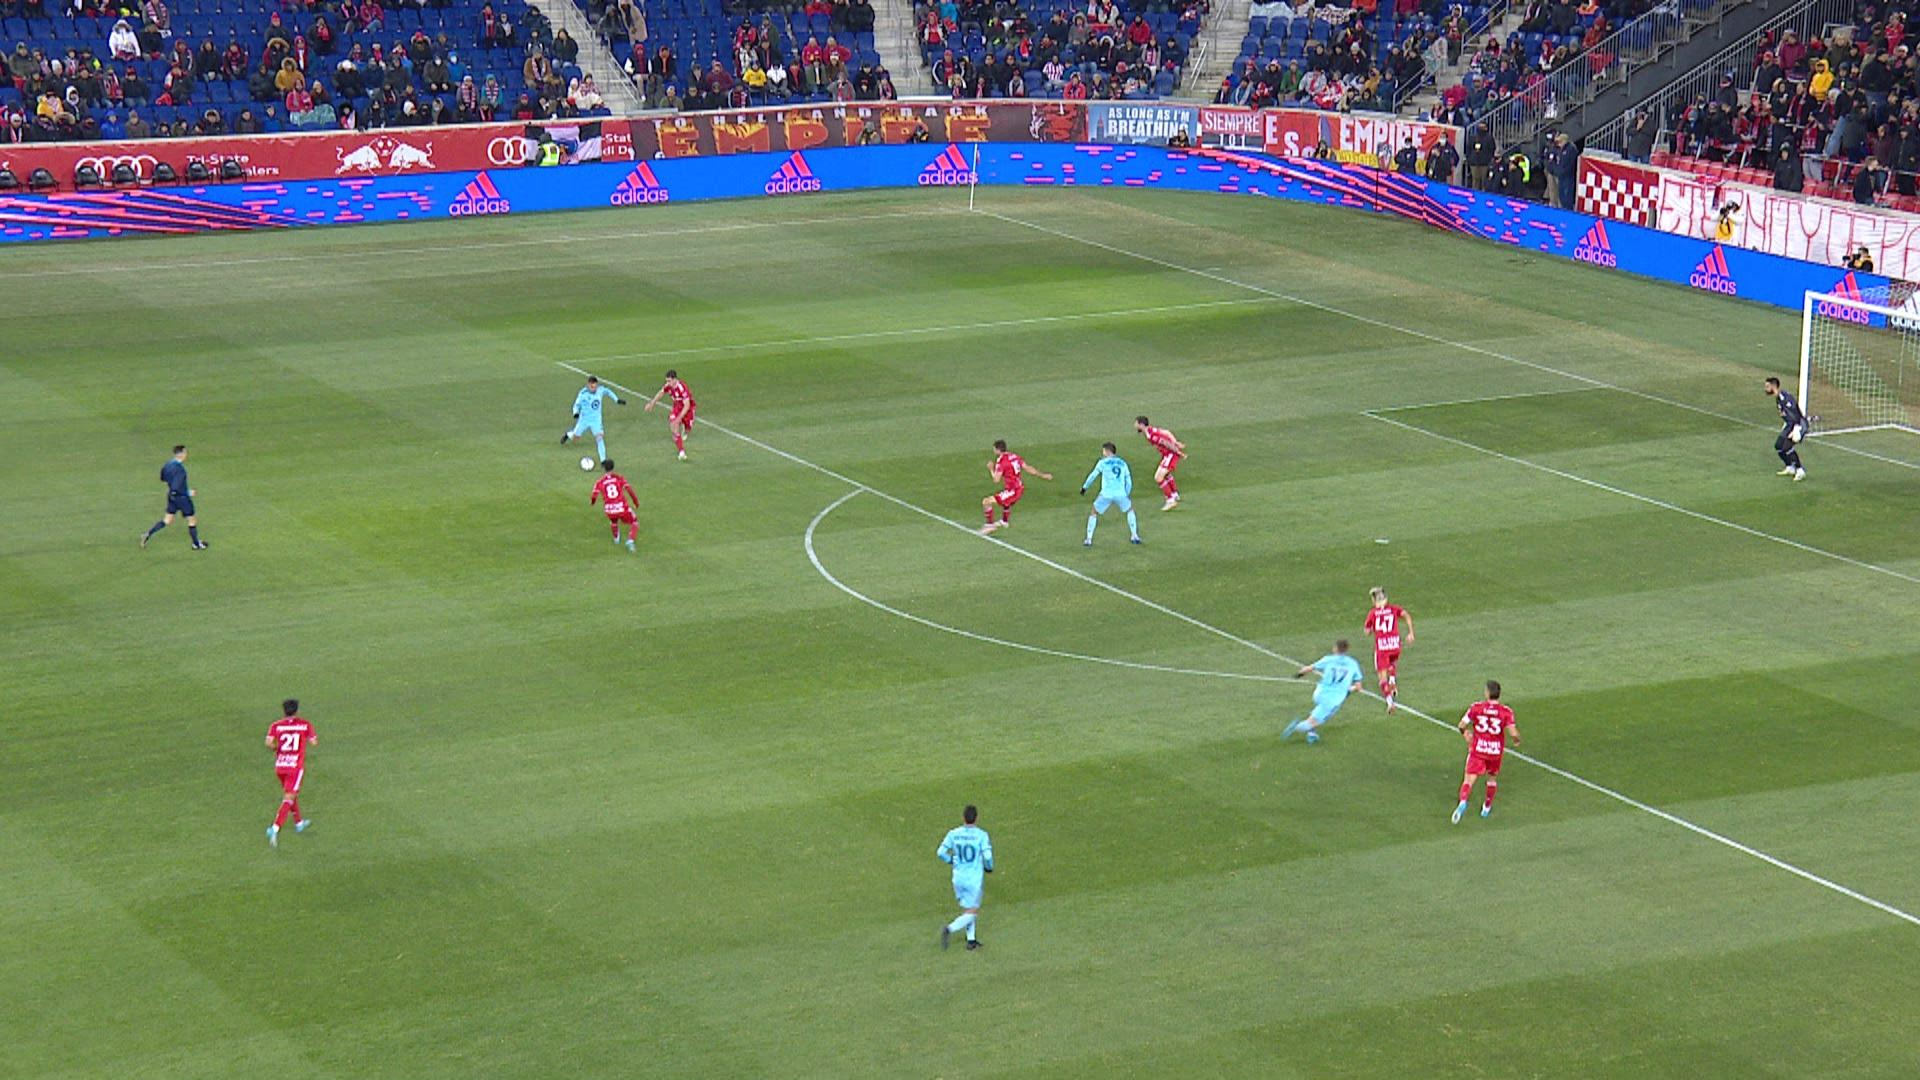football: (579, 455, 596, 471)
